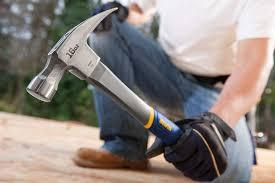hammer: (23, 4, 184, 145)
